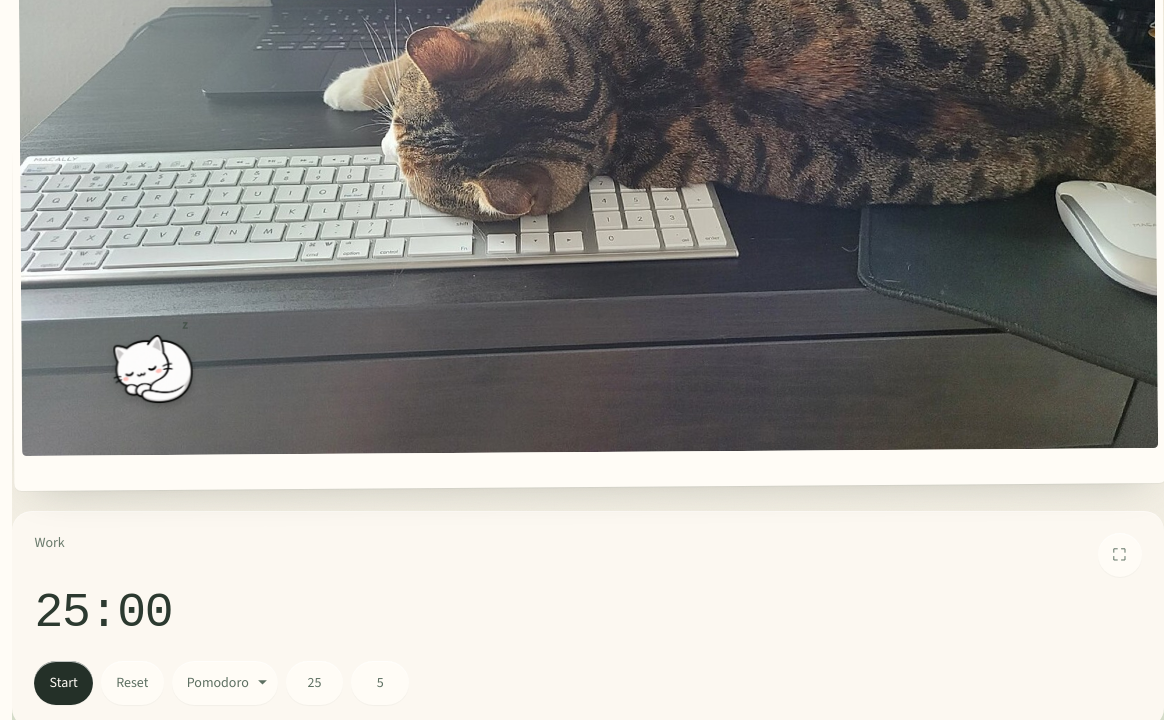
it: FocusPage › lets you pet the cat without changing the study scene
(page scrolled)
Click the button named "Cat, sleeping". click: (153, 360)
box: [112,317,194,404]
(page scrolled)
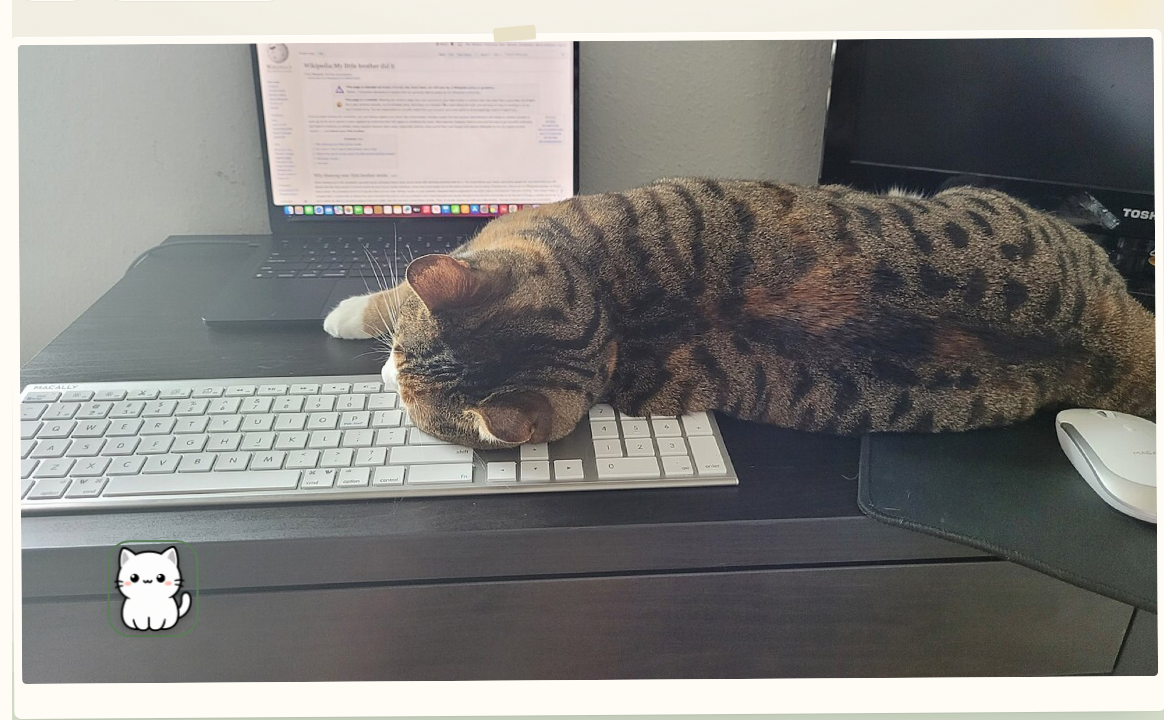
Expected: the button named "Cat, purring" is shown, [112,545,194,632]
